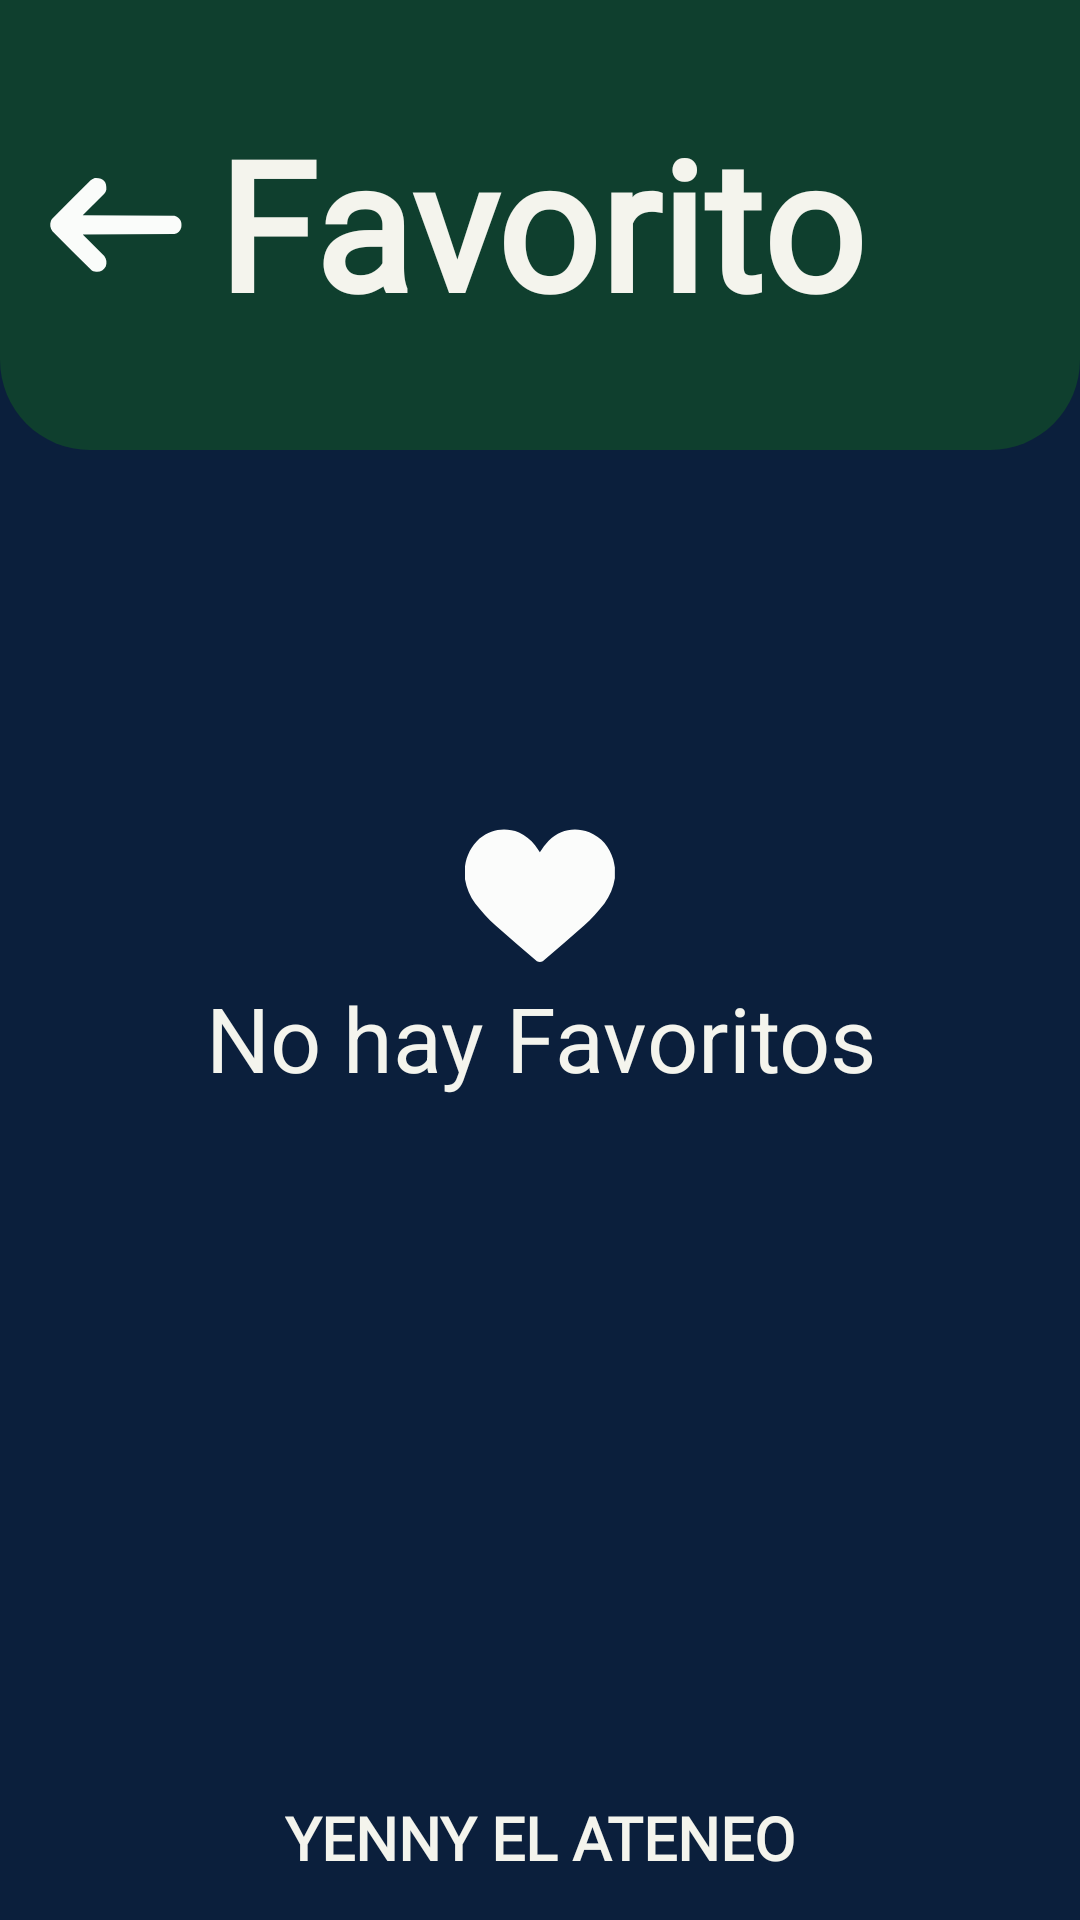

Screen size 1080x1920. Icon name, then its center in pixels as point (x, y):
Volver: point (116, 225)
